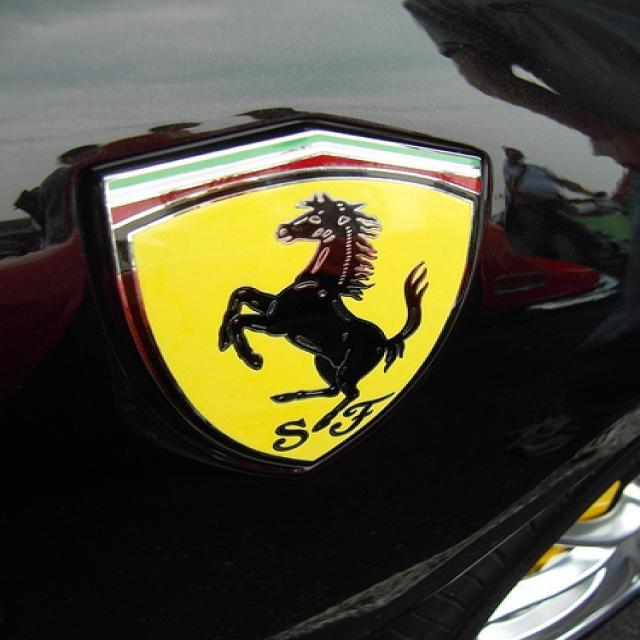ferrari: (105, 130, 481, 471)
